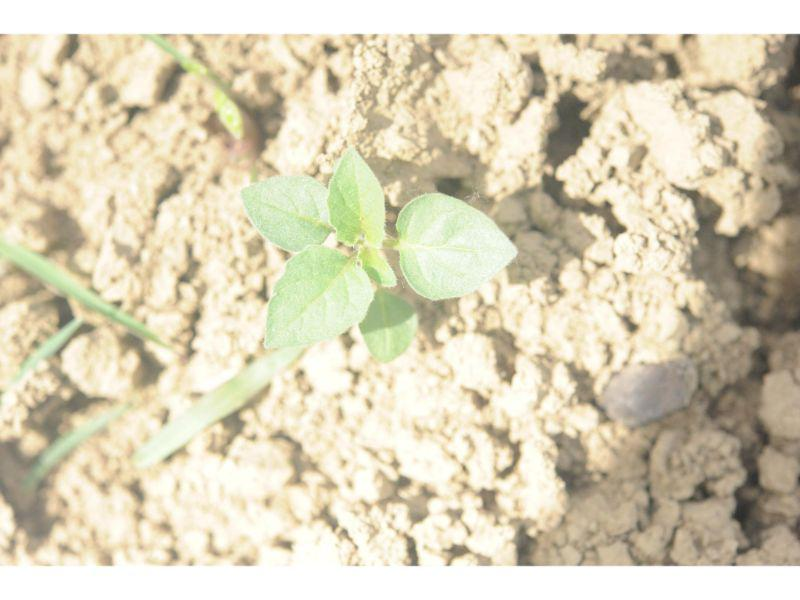nightshade: (245, 149, 517, 361)
